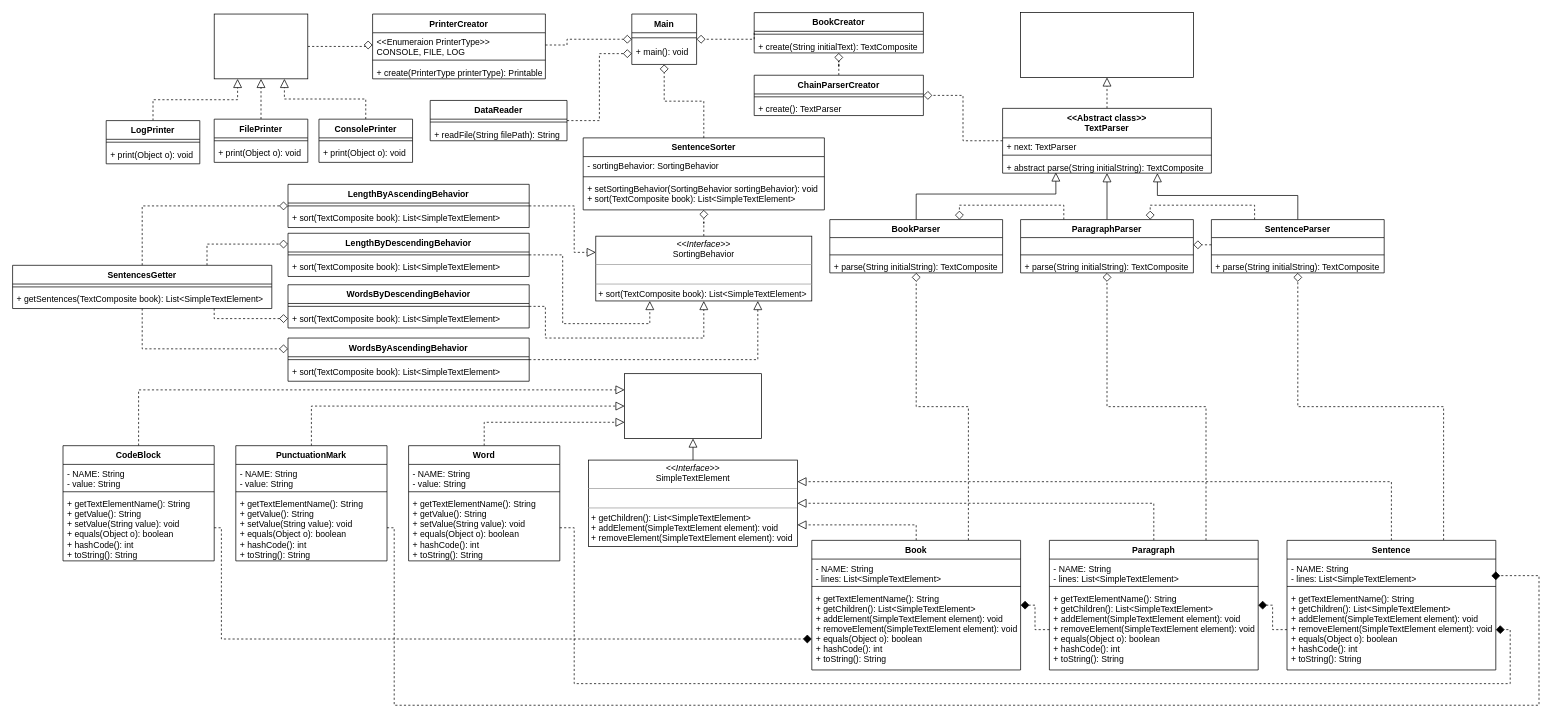
The diagram is 1560 pixels wide and 726 high, and some of its shapes have lost their labels. Each missing label, with the centre of its shape:
"<<Interface>> Parser + parse(String initialString): TextComposite" goes at (1106,44).
"<<Interface>> Printable + print(Object o): void" goes at (260,46).
"<<Interface>> SimpleTextElement + getTextElementName(): String" goes at (692,405).
